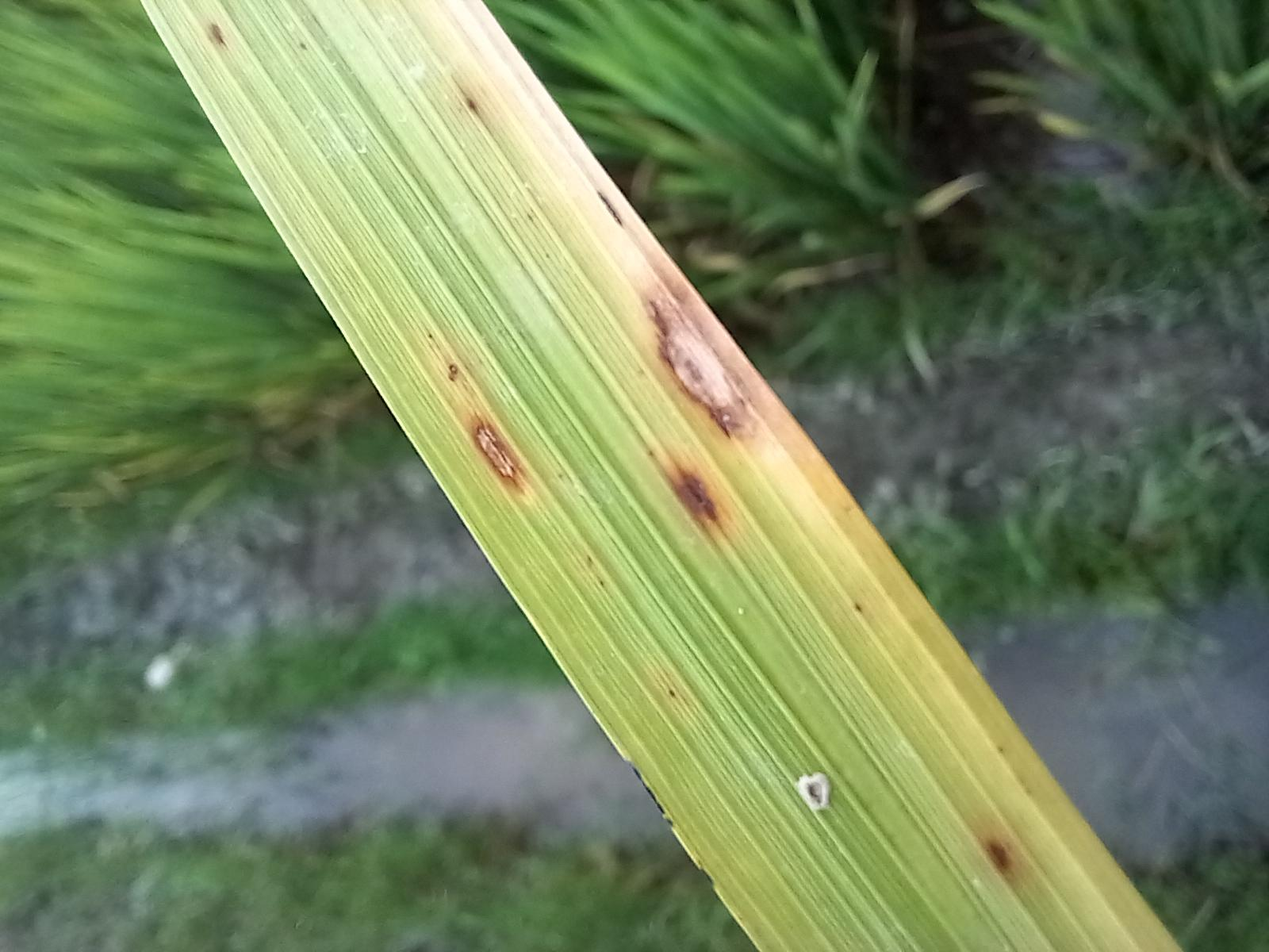LEAF BLAST: (680, 482, 916, 571), (615, 353, 712, 392)
